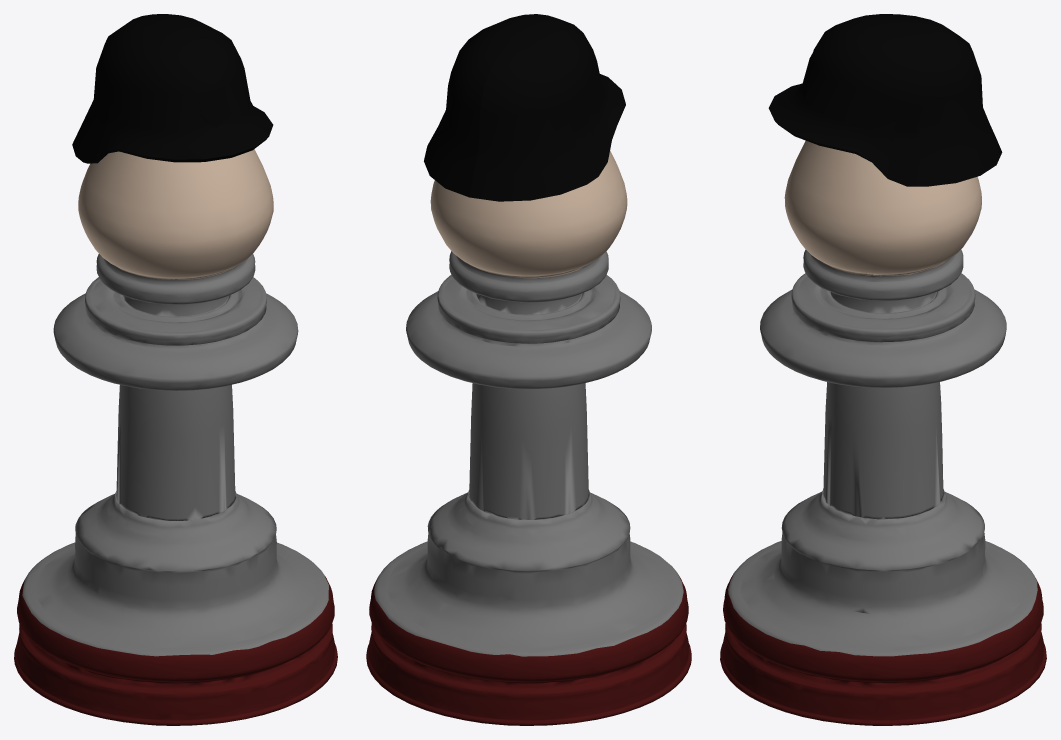
File: Bispo Preto.FBX
The picture shows the model from 3 angles, left to right: view 1: azimuth 30°, elevation 25°; view 2: azimuth 150°, elevation 25°; view 3: azimuth 270°, elevation 25°; orthographic projection.
Visible parts, largest first — view 1: Bishop, 4cd75640.o, 4930d698.o; view 2: Bishop, 4cd75640.o; view 3: Bishop, 4cd75640.o, 4930d698.o.
Boxes of the visible parts, x1,y1,x2,y2 form: Bishop: [14, 149, 337, 725]; 4cd75640.o: [72, 14, 273, 163]; 4930d698.o: [96, 84, 228, 127]; Bishop: [366, 150, 691, 725]; 4cd75640.o: [424, 14, 625, 201]; Bishop: [720, 140, 1046, 725]; 4cd75640.o: [768, 14, 1002, 186]; 4930d698.o: [800, 59, 921, 143].
Bounding box in the file's own units: 109 × 234 × 109.
